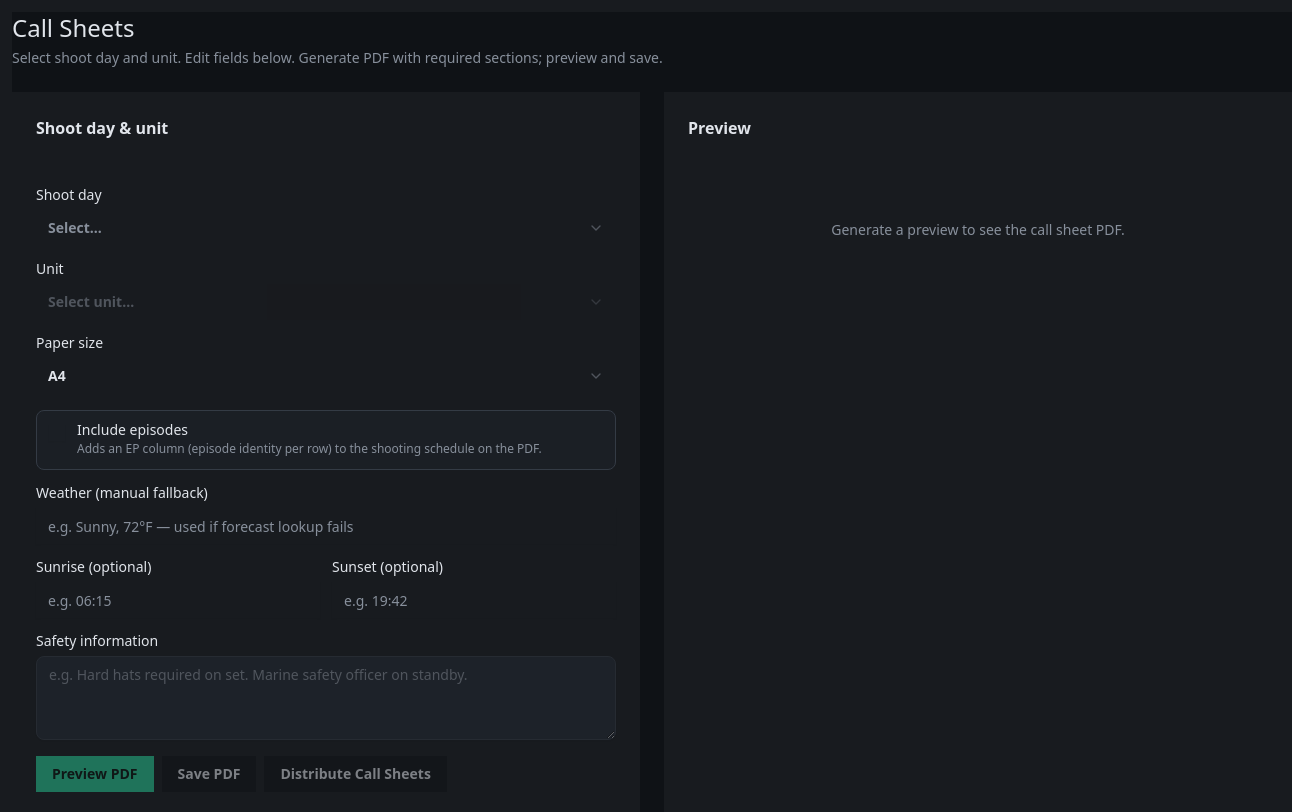
Test case: CallSheetsPage episodic UI › persists safety information to shoot_days.special_notes and reloads when switching shoot days
Click the dropdown labelled "Select..." at (75, 228), box [36, 210, 616, 246]
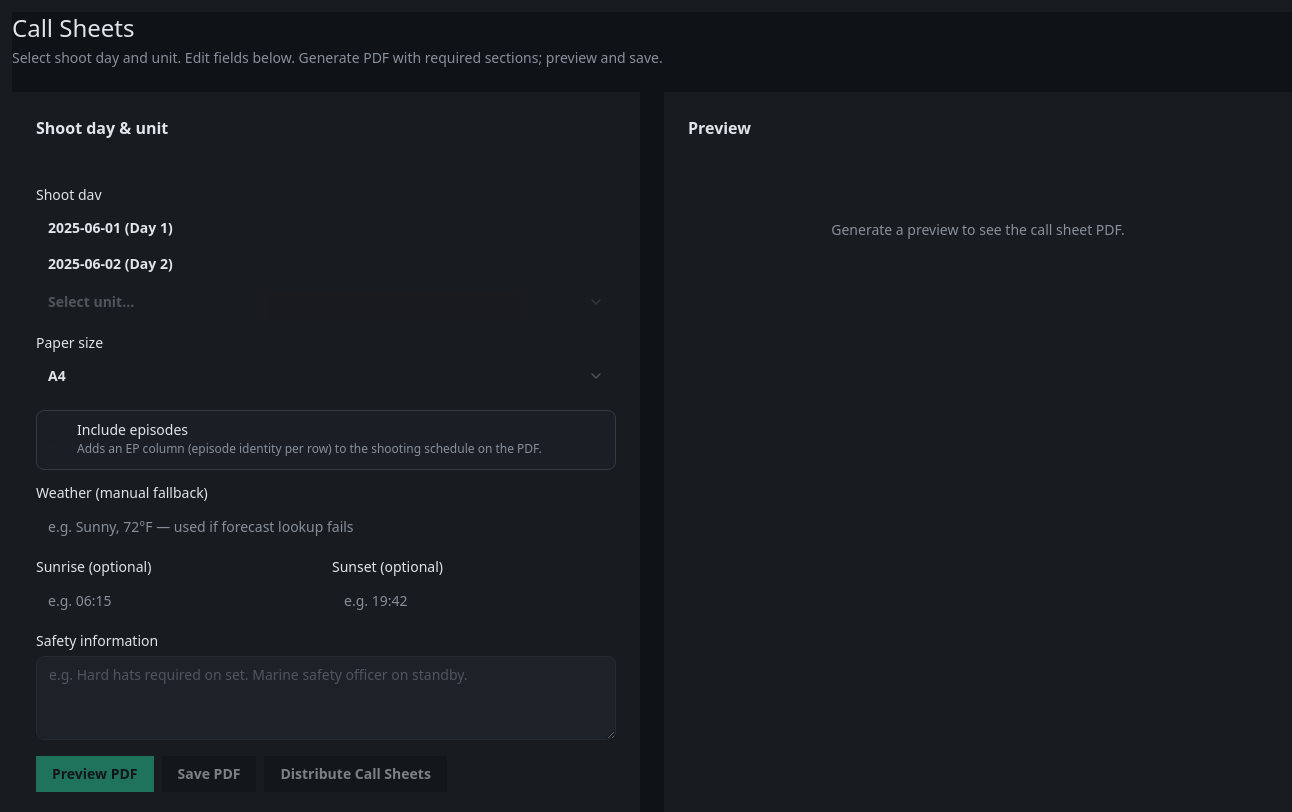
Click the option "2025-06-01 (Day 1)" at (110, 228), box [48, 218, 173, 237]
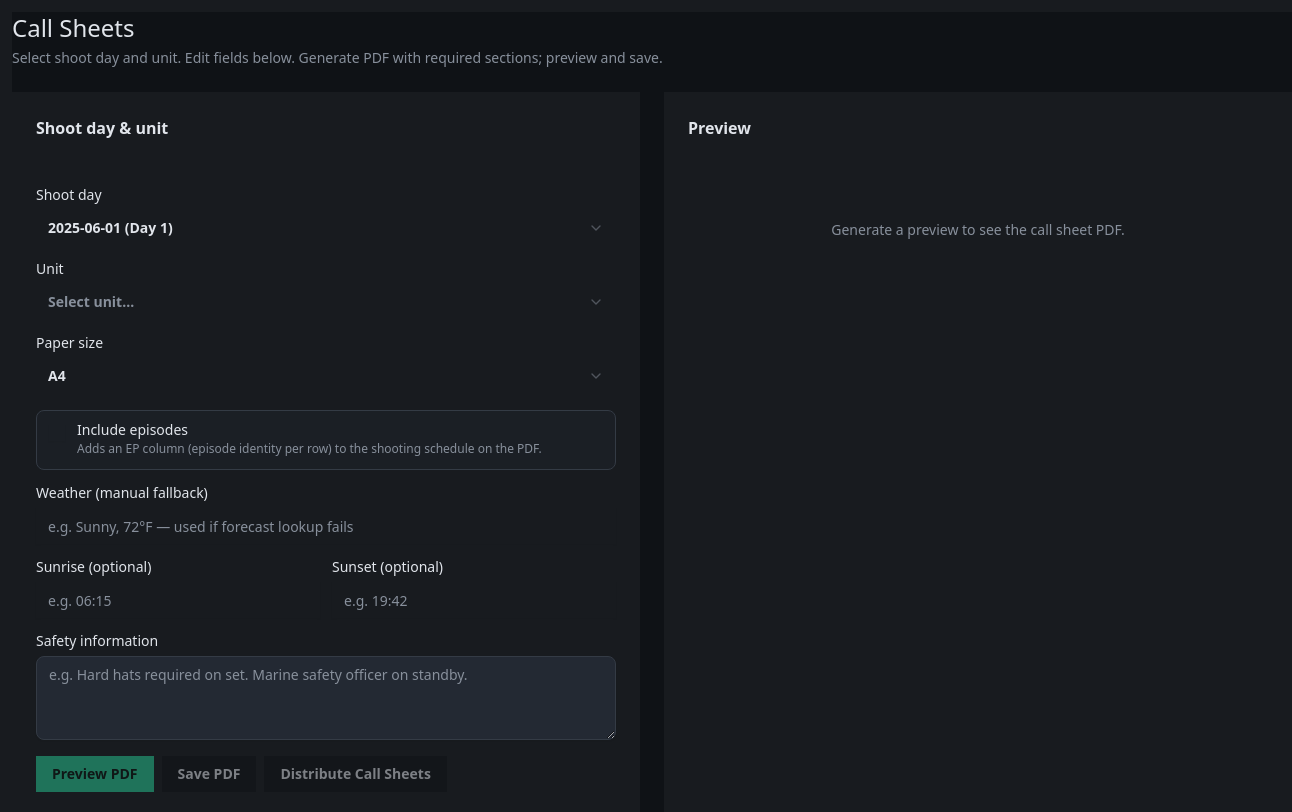
Click the dropdown labelled "Select unit..." at (91, 302), box [36, 284, 616, 320]
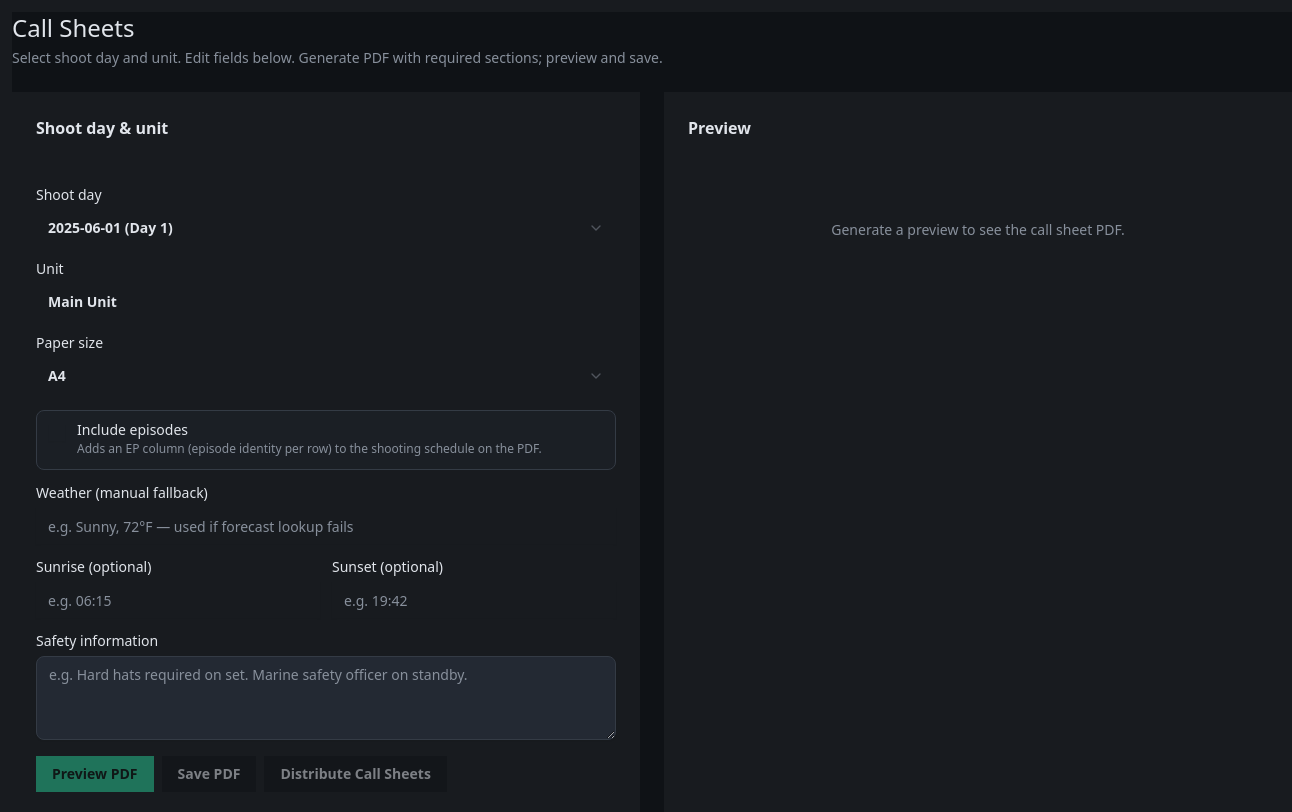
Click the option "Main Unit" at (82, 302), box [48, 292, 117, 311]
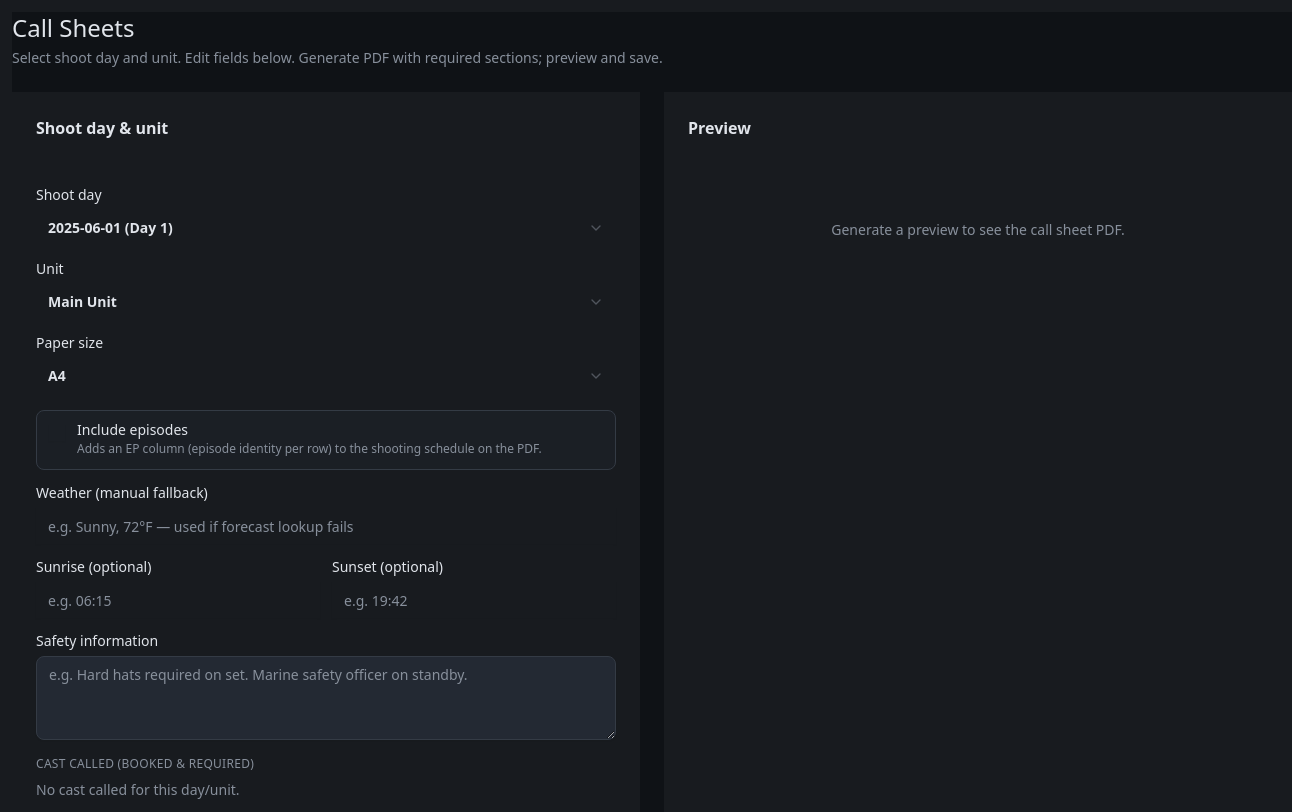
Type "Marine safety officer on standby." into the text box labelled "Safety information" at (326, 698), box [36, 656, 616, 740]
Click the dropdown labelled "2025-06-01 (Day 1)" at (85, 228), box [36, 210, 616, 246]
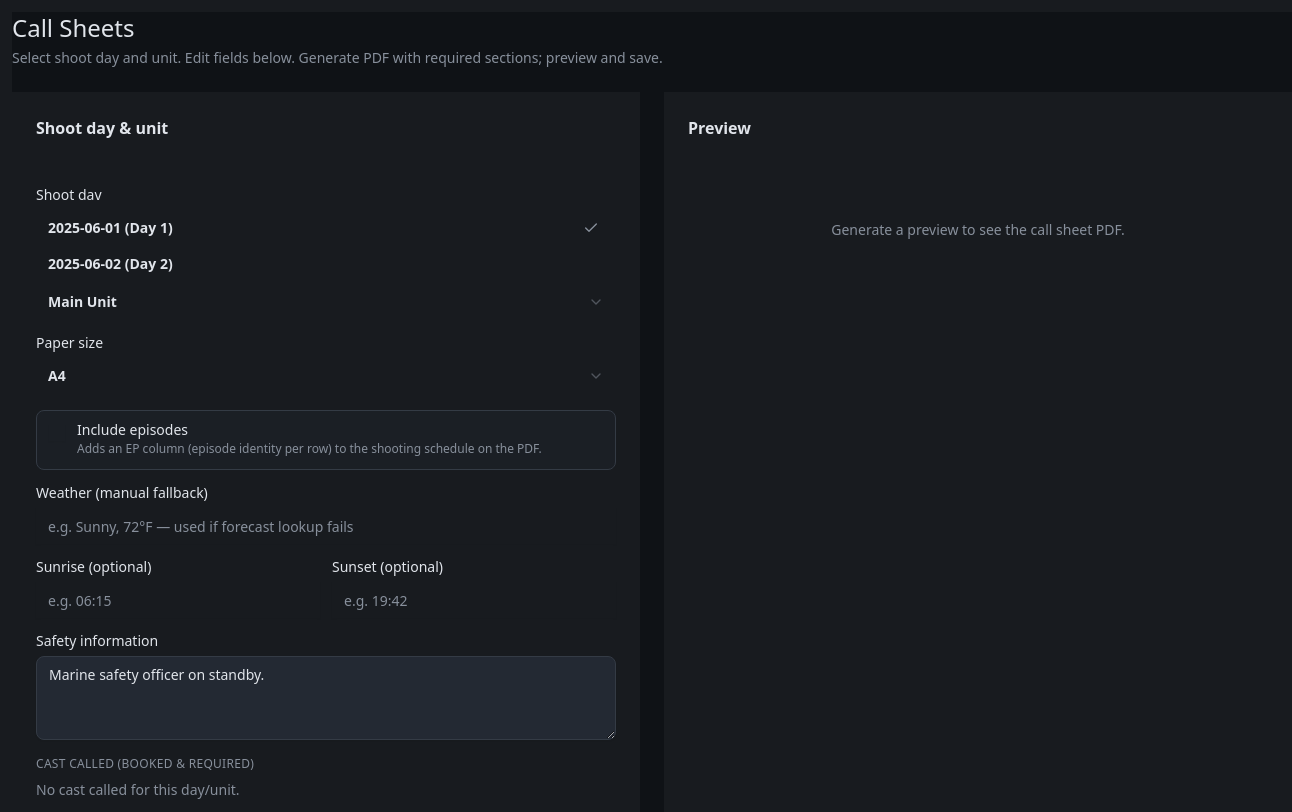
Click the option "2025-06-02 (Day 2)" at (110, 264), box [48, 254, 173, 273]
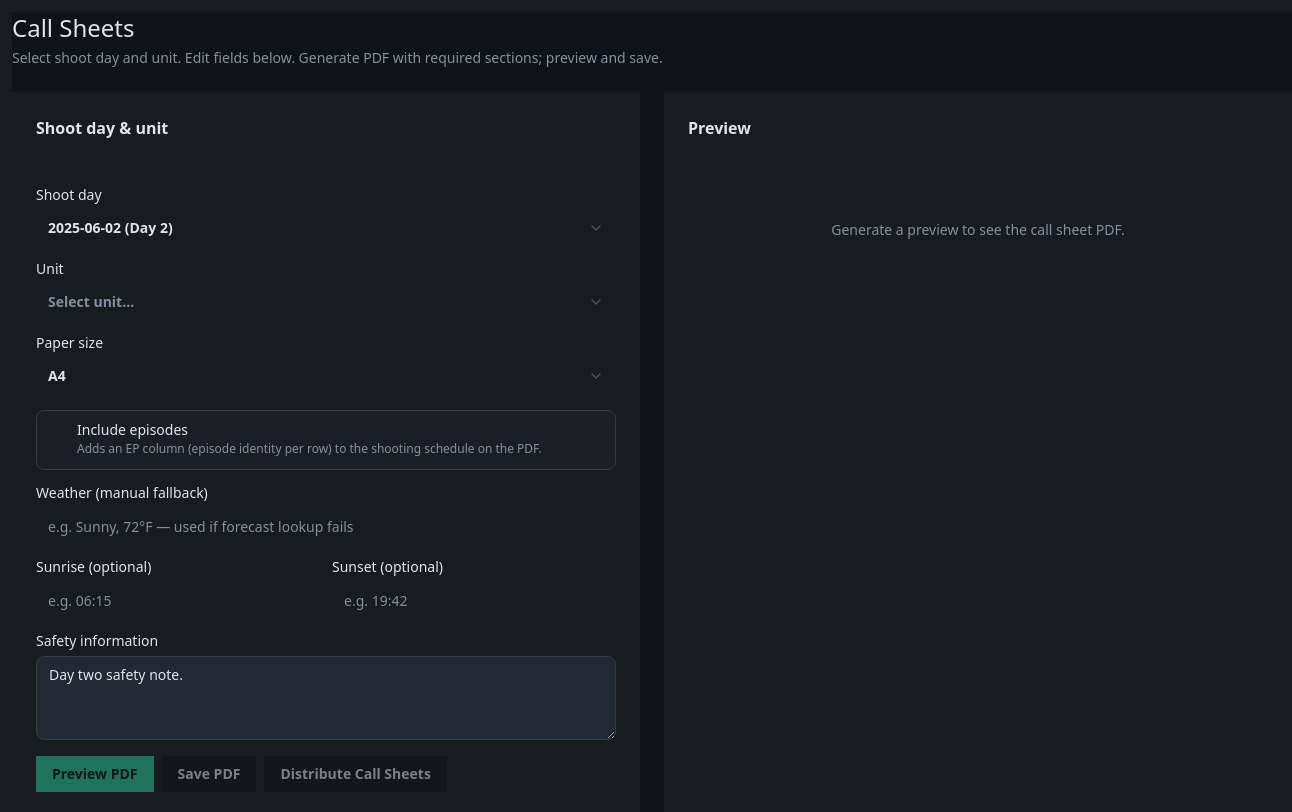
Expected: the text box labelled "Safety information" holds "Day two safety note.", [36, 656, 616, 740]
